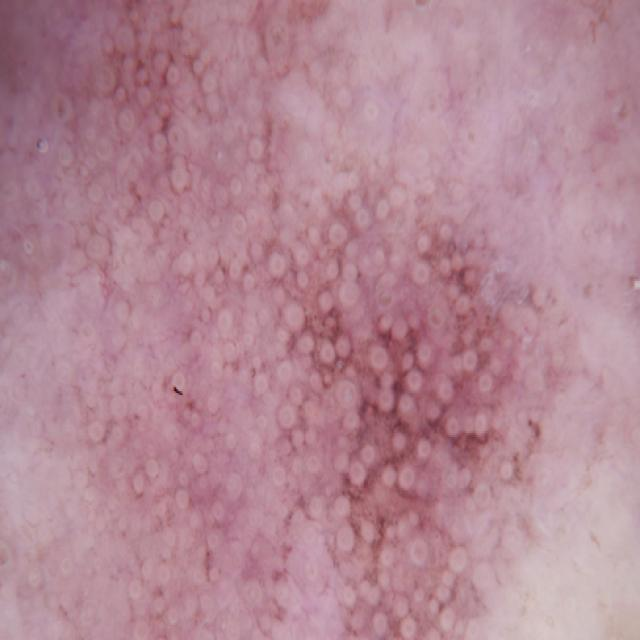Keratosis: (101, 73, 328, 366), (357, 264, 531, 640), (106, 513, 297, 640), (176, 400, 350, 490)
